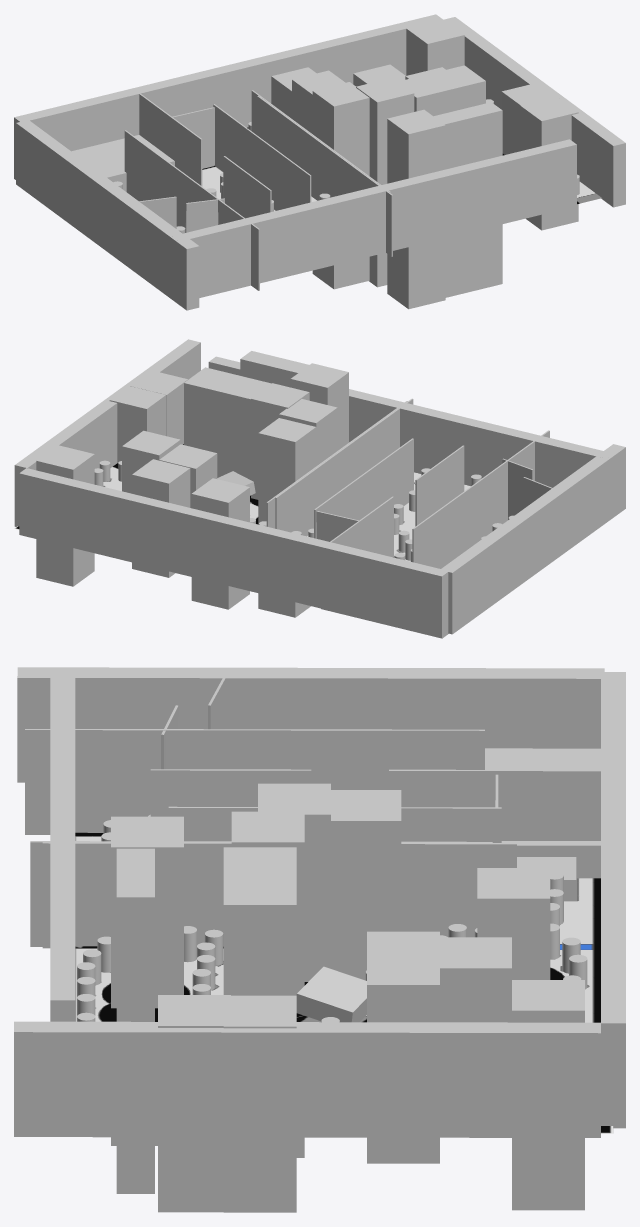
The model's file is level map.fbx.
The picture shows the model from 3 angles, top to bottom: view 1: azimuth 30°, elevation 25°; view 2: azimuth 150°, elevation 25°; view 3: azimuth 270°, elevation 25°; orthographic projection. The views are drawn at different scales.
Parts seen in each view (by area): view 1: wall, wall__6_, wall__7_, Cube__11_, Cube__12_, wall__1_, Cube__6_, wall__2_, wall__8_, wall__3_, Cube__7_, Cube__10_ (+16 smaller); view 2: wall__6_, wall__7_, wall, wall__8_, wall__2_, wall__1_, Cube__5_, wall__3_, Cube__2_, Cube__8_, Cube, Cube__15_ (+16 smaller); view 3: wall__1_, wall__7_, wall__8_, wall__10_, Cube__5_, wall__6_, wall__5_, wall, Cube__12_, Cube__15_, Cube__2_, Cube__9_ (+18 smaller).
Boxes of the visible parts, bbox=[...] form: wall: bbox=[172, 139, 576, 297]; wall__6_: bbox=[14, 14, 442, 179]; wall__7_: bbox=[16, 120, 199, 310]; Cube__11_: bbox=[387, 109, 445, 309]; Cube__12_: bbox=[434, 102, 502, 297]; wall__1_: bbox=[444, 17, 625, 207]; Cube__6_: bbox=[312, 82, 369, 289]; wall__2_: bbox=[257, 96, 392, 256]; wall__8_: bbox=[124, 130, 259, 290]; wall__3_: bbox=[213, 104, 311, 210]; Cube__7_: bbox=[356, 77, 414, 287]; Cube__10_: bbox=[520, 96, 578, 230]; wall__6_: bbox=[19, 468, 448, 637]; wall__7_: bbox=[441, 444, 625, 634]; wall: bbox=[208, 356, 613, 487]; wall__8_: bbox=[412, 430, 549, 568]; wall__2_: bbox=[275, 398, 413, 536]; wall__1_: bbox=[14, 339, 200, 526]; Cube__5_: bbox=[258, 418, 316, 617]; wall__3_: bbox=[314, 438, 413, 538]; Cube__2_: bbox=[36, 445, 94, 586]; Cube__8_: bbox=[216, 375, 271, 495]; Cube: bbox=[191, 478, 249, 609]; Cube__15_: bbox=[184, 367, 239, 477]; wall__1_: bbox=[14, 1021, 600, 1137]; wall__7_: bbox=[17, 667, 604, 782]; wall__8_: bbox=[25, 729, 484, 834]; wall__10_: bbox=[42, 842, 516, 948]; Cube__5_: bbox=[328, 790, 401, 980]; wall__6_: bbox=[601, 672, 625, 1128]; wall__5_: bbox=[389, 769, 600, 840]; wall: bbox=[50, 669, 75, 1021]; Cube__12_: bbox=[116, 848, 154, 1193]; Cube__15_: bbox=[223, 874, 296, 995]; Cube__2_: bbox=[512, 980, 584, 1210]; Cube__9_: bbox=[223, 995, 296, 1212].
Bounding box in the file's own units: 3482 × 1401 × 2462.
2 materials, 1 textured.
